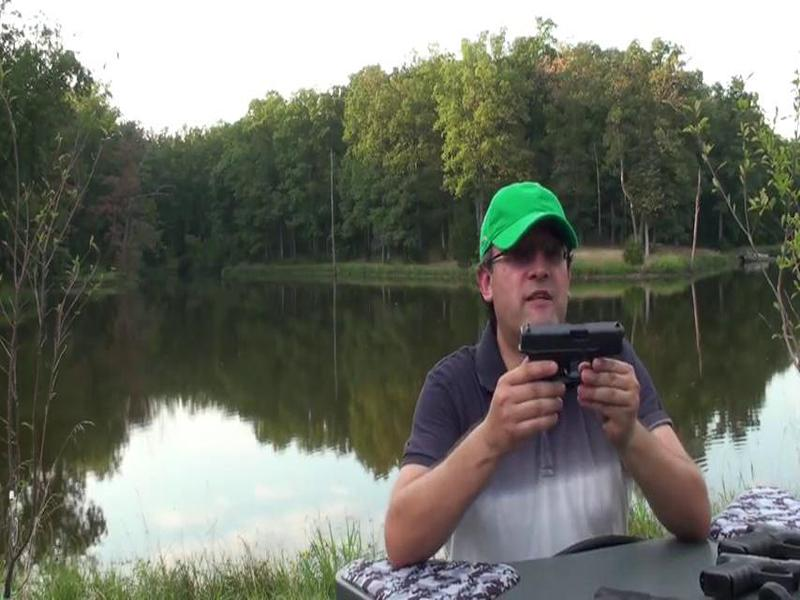Pistola: (500, 307, 641, 435)
